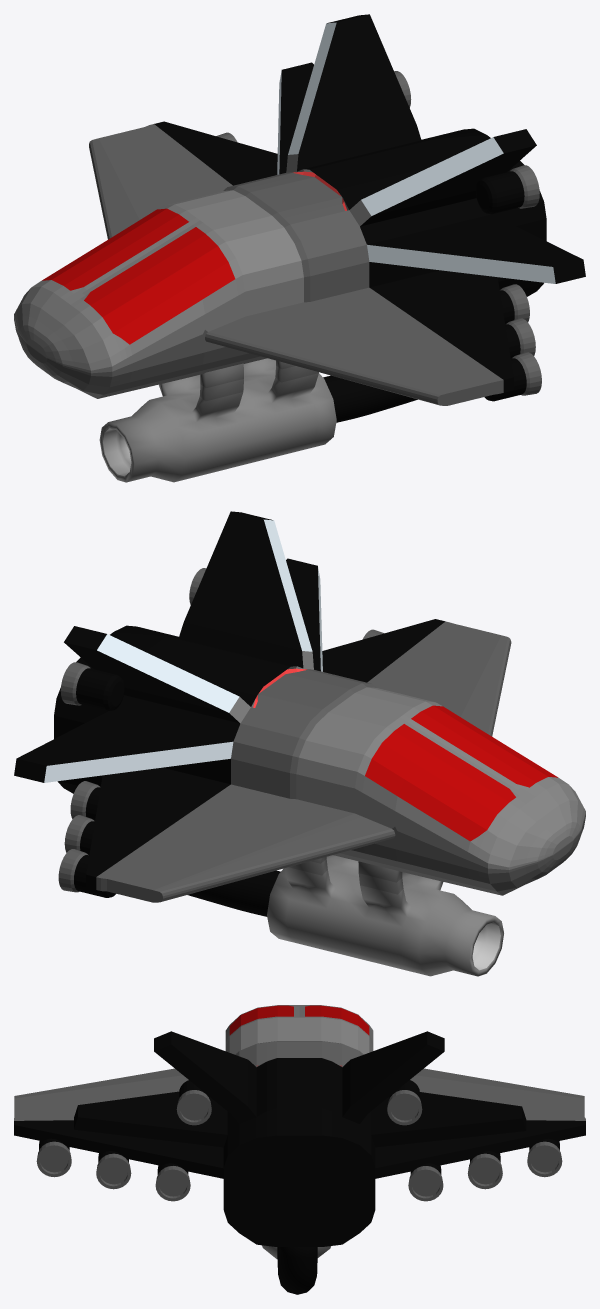
Rendered from NaveGun.fbx.
3 views of the same model, one above another, from view 1: azimuth 30°, elevation 25°; view 2: azimuth 150°, elevation 25°; view 3: azimuth 270°, elevation 25° (orthographic). The views are drawn at different scales.
Parts seen in each view (by area): view 1: Gun; view 2: Gun; view 3: Gun.
Part boxes in pixels (x1,y1,x2,y2): Gun: (14,14,585,482); Gun: (14,511,585,976); Gun: (14,1005,585,1294).
Size of the model in its own units: 33145 by 22929 by 43326.
1 material, 1 textured.
